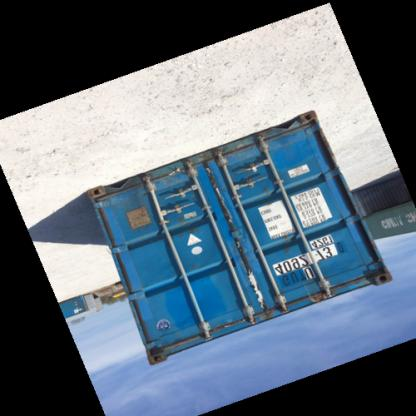Damage: (145, 166, 191, 194), (244, 266, 262, 316), (212, 314, 242, 338), (214, 188, 233, 224)
